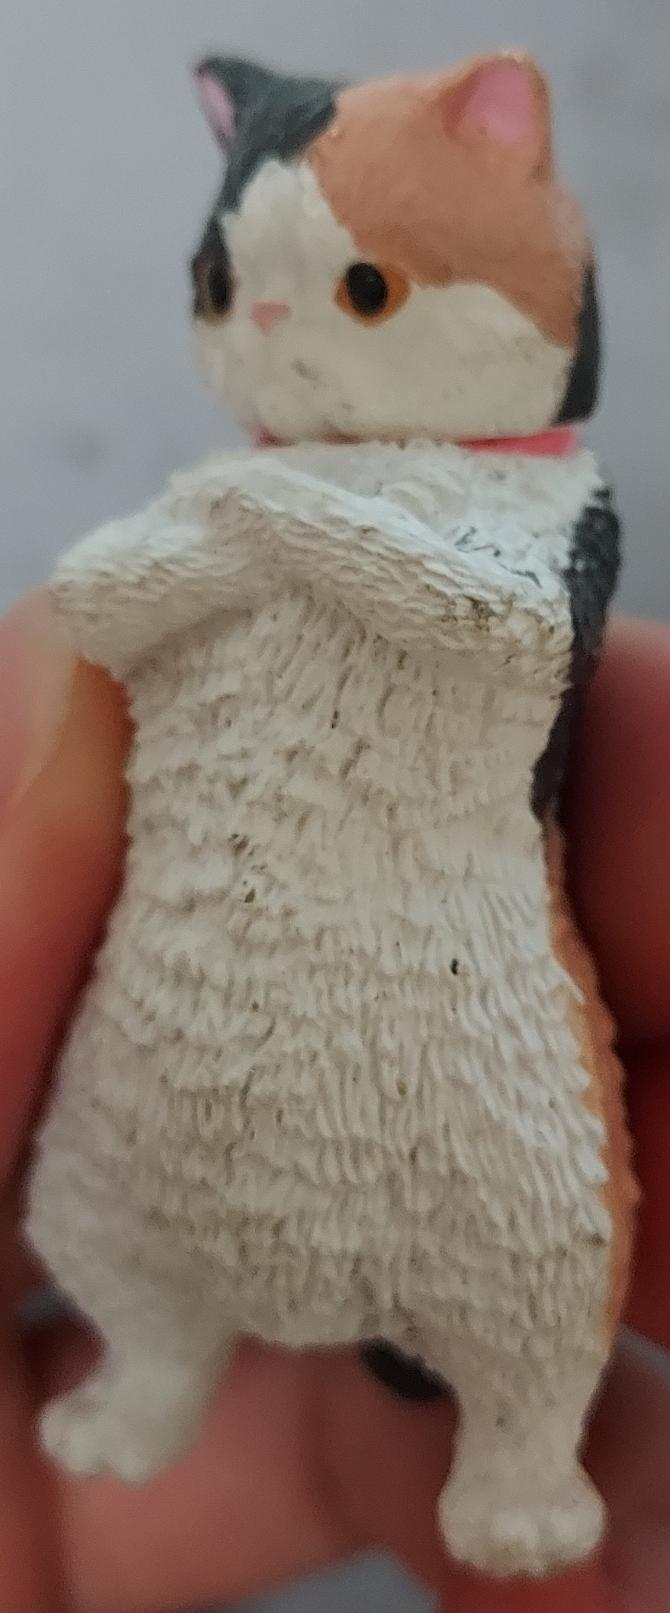cat: (0, 1, 670, 1613)
